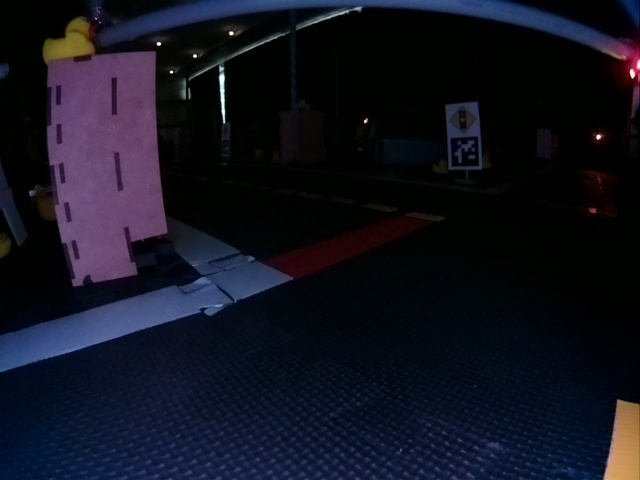Duckie: (43, 17, 95, 60), (433, 160, 447, 173)
QR code: (450, 136, 482, 169)
Signal sign: (450, 105, 478, 133)
Traffic light: (627, 52, 638, 82)
